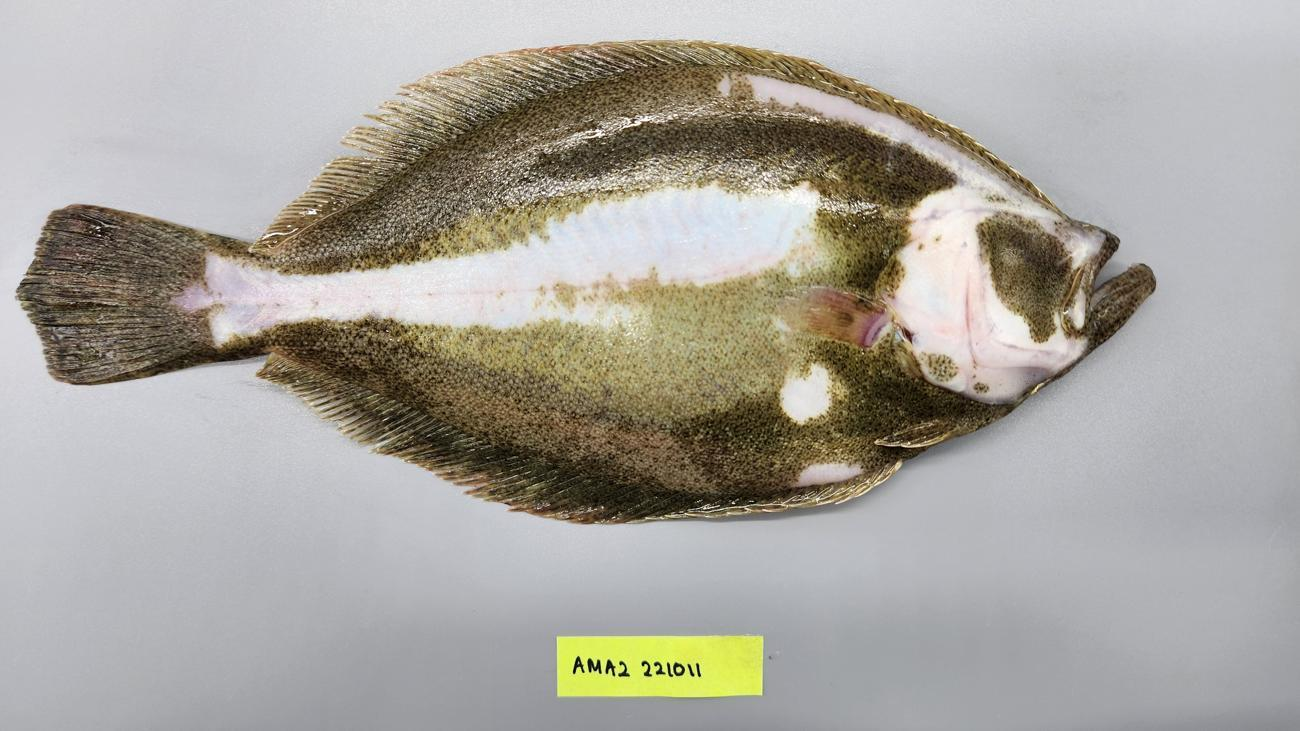MAOUY: (19, 33, 1156, 524)
